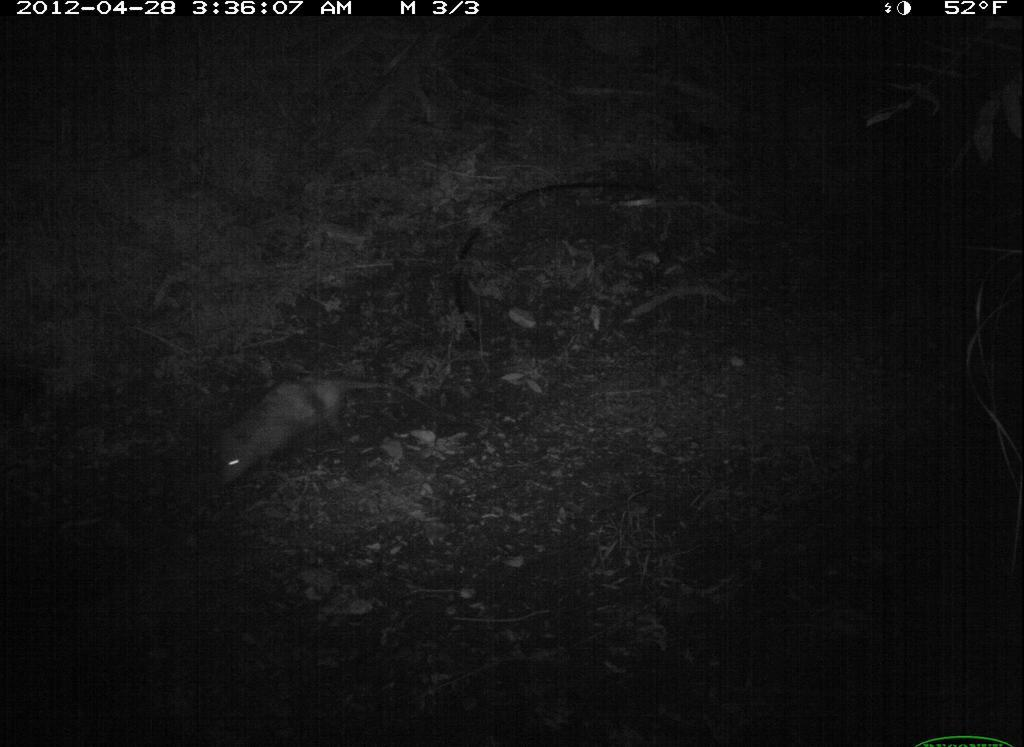opossum: (189, 356, 427, 497)
